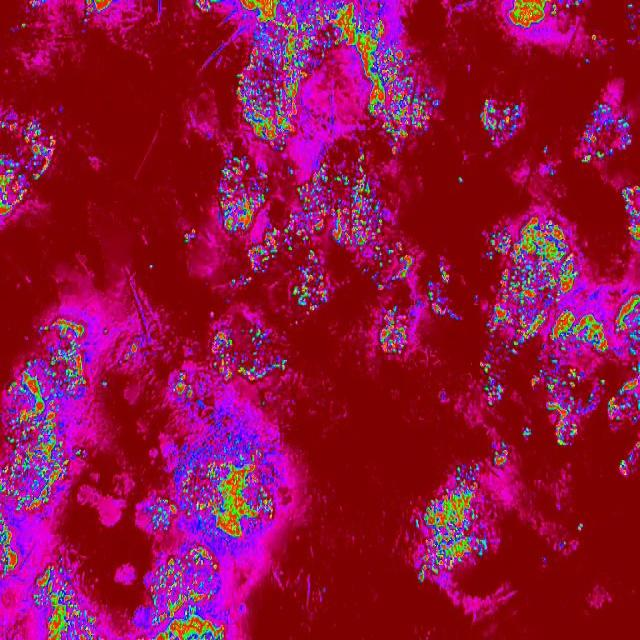fire: (0, 316, 90, 515), (484, 216, 578, 356), (174, 430, 276, 540), (412, 461, 489, 585), (235, 49, 322, 147), (140, 544, 226, 640), (235, 0, 392, 49), (358, 48, 438, 144), (296, 166, 386, 248), (31, 564, 98, 640), (208, 323, 288, 381), (212, 155, 270, 231), (580, 101, 632, 170), (292, 248, 334, 316), (426, 260, 462, 324), (362, 244, 414, 287), (478, 96, 523, 142), (374, 303, 410, 357), (614, 288, 640, 362), (0, 152, 27, 218), (608, 377, 640, 432), (530, 365, 584, 395), (546, 396, 579, 445), (248, 233, 278, 274), (28, 142, 58, 182), (478, 360, 504, 406), (579, 314, 606, 355), (145, 492, 174, 530), (0, 518, 18, 576), (508, 0, 548, 26), (3, 114, 42, 140), (623, 183, 640, 241), (166, 369, 195, 400), (82, 0, 116, 22), (489, 442, 508, 470), (283, 214, 296, 250), (122, 340, 140, 361), (231, 272, 254, 288), (195, 0, 220, 11), (619, 454, 632, 475), (27, 0, 48, 10), (554, 536, 569, 550), (182, 228, 195, 244), (521, 426, 534, 440), (544, 166, 557, 178), (598, 376, 609, 388), (586, 392, 594, 408), (631, 360, 640, 374), (551, 2, 558, 20), (562, 0, 582, 6), (146, 260, 156, 272), (388, 144, 402, 152), (633, 440, 640, 456), (357, 152, 366, 164), (576, 522, 584, 534), (456, 175, 465, 185), (100, 381, 110, 390), (590, 34, 600, 42), (626, 0, 634, 10), (542, 145, 550, 154), (21, 20, 28, 30), (102, 327, 108, 337), (585, 57, 590, 64), (273, 228, 280, 232)
